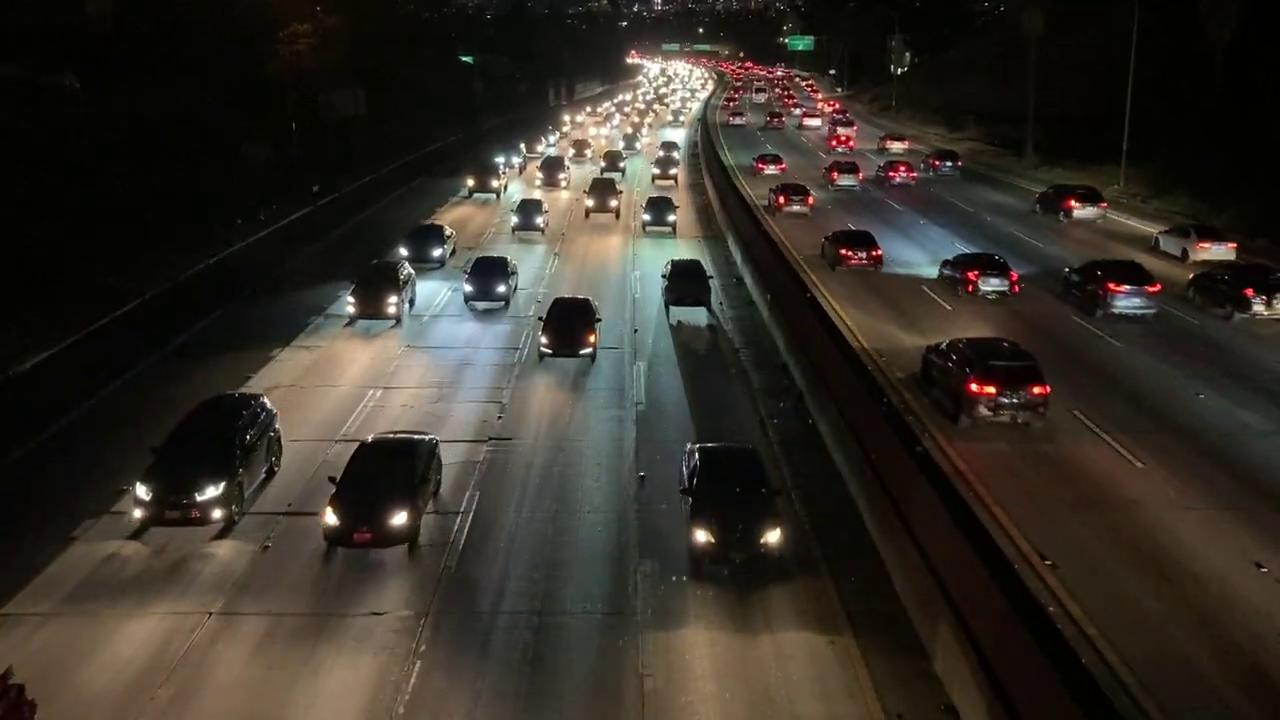car: (129, 389, 288, 533), (315, 433, 445, 554), (675, 435, 788, 572), (917, 332, 1056, 430), (1062, 257, 1164, 323), (1183, 261, 1279, 324), (537, 295, 606, 365), (345, 261, 419, 322), (1147, 221, 1242, 267), (937, 250, 1019, 302), (658, 255, 716, 314), (458, 255, 521, 307), (819, 230, 889, 274), (1033, 184, 1104, 224), (400, 219, 457, 264), (461, 160, 510, 198), (765, 183, 816, 218), (509, 198, 549, 237), (641, 195, 681, 234), (585, 178, 624, 217), (820, 158, 863, 192), (921, 147, 965, 180), (873, 159, 917, 190), (535, 155, 572, 189), (749, 153, 788, 178), (647, 157, 680, 184), (599, 149, 628, 178), (875, 133, 909, 157), (825, 134, 860, 153), (797, 110, 825, 130), (658, 141, 684, 159), (726, 110, 748, 127), (765, 112, 786, 129)
